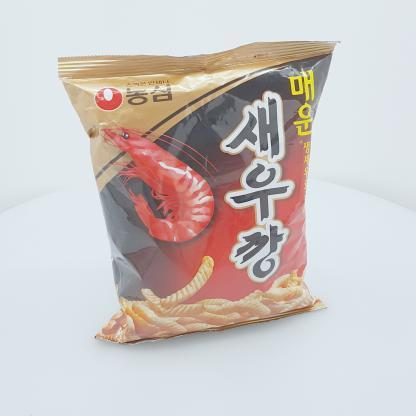Plastic Packaging: (52, 31, 348, 355)
